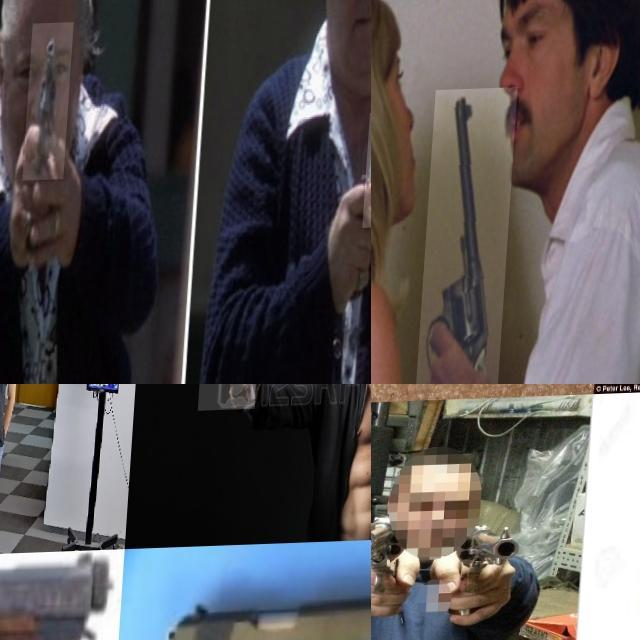gun-knife-thesis - v11 Yolov5 augmented: (418, 89, 520, 384), (371, 384, 583, 493), (28, 23, 78, 182), (453, 520, 526, 620), (371, 518, 407, 595), (200, 384, 260, 420), (0, 384, 4, 406)
